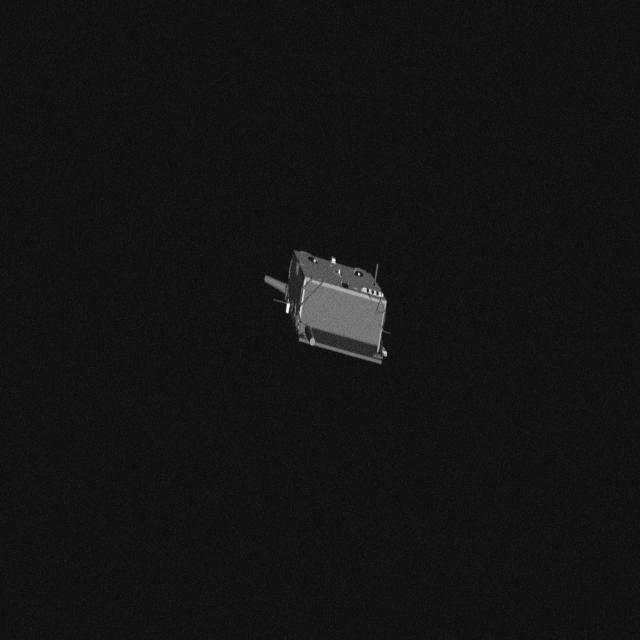satellite: (266, 238, 404, 370)
